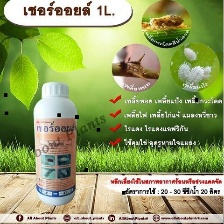insecticide: (29, 79, 80, 208)
